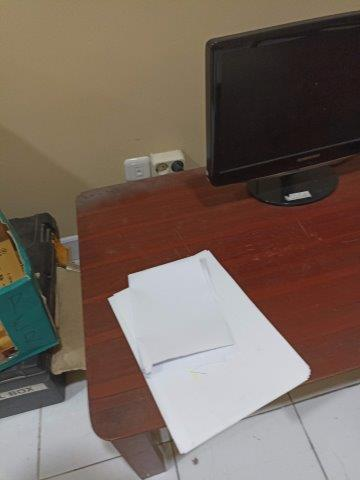kertas: (107, 250, 311, 454)
